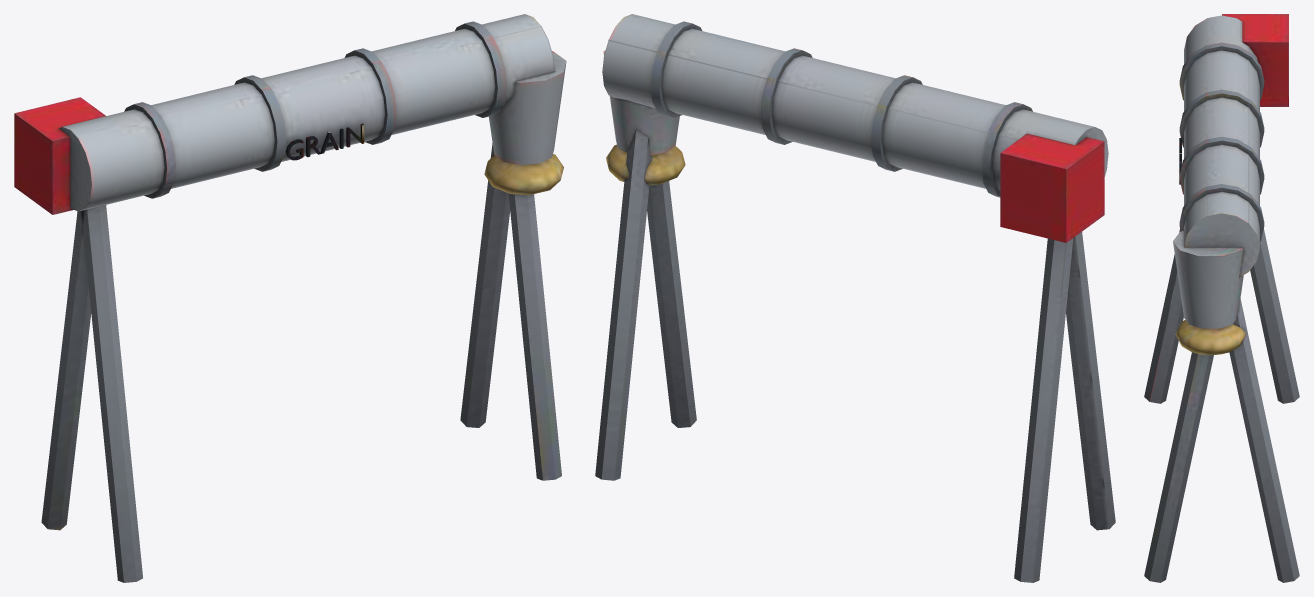
The model's file is sinfin.glb.
3 views of the same model, side by side, from view 1: azimuth 30°, elevation 25°; view 2: azimuth 150°, elevation 25°; view 3: azimuth 270°, elevation 25° (orthographic). The views are drawn at different scales.
Parts seen in each view (by area): view 1: sinfin; view 2: sinfin; view 3: sinfin.
Part boxes in pixels (box(x1,y1,x2,y2)): sinfin: box(14, 14, 566, 582); sinfin: box(595, 14, 1115, 582); sinfin: box(1144, 14, 1299, 582).
Size of the model in its own units: 2.27 by 1.88 by 0.6982.
1 material, 1 textured.
